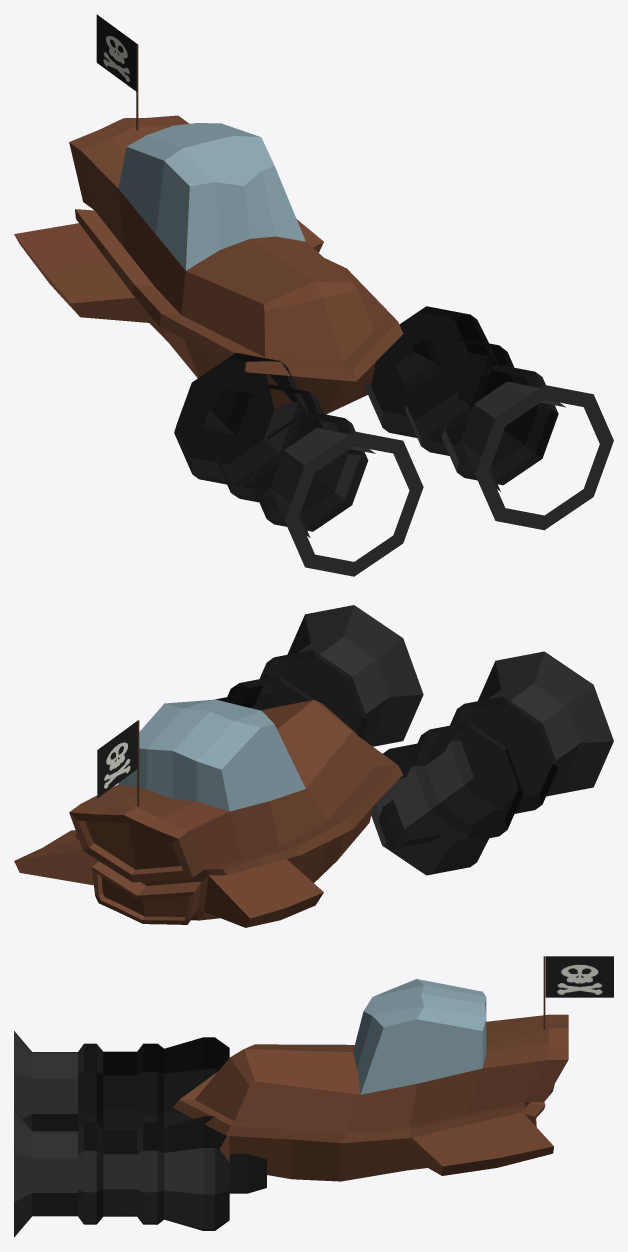
The model's file is ship.glb.
3 views of the same model, one above another, from view 1: azimuth 30°, elevation 25°; view 2: azimuth 150°, elevation 25°; view 3: azimuth 270°, elevation 25° (orthographic). The views are drawn at different scales.
Parts seen in each view (by area): view 1: Cube, Cube.001, Plane; view 2: Cube, Cube.001, Plane; view 3: Cube, Cube.001, Plane.
Part boxes in pixels (x1,y1,x2,y2): Cube: (14,115,403,414); Cube.001: (174,306,613,576); Plane: (96,14,136,91); Cube: (14,699,403,927); Cube.001: (215,605,613,875); Plane: (97,721,137,798); Cube: (173,979,568,1181); Cube.001: (14,1031,266,1237); Plane: (545,956,613,997).
Bounding box in the file's own units: 3.56 × 2.9 × 6.59.
3 materials, 3 textured.
